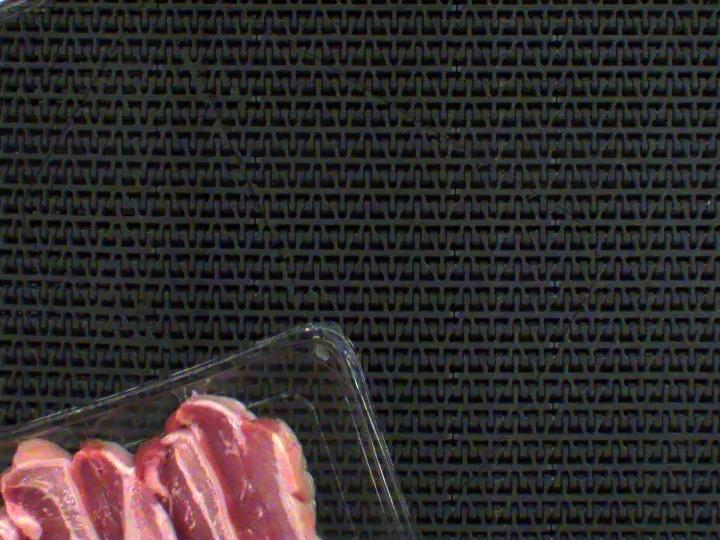packaging-error: (170, 380, 221, 401)
